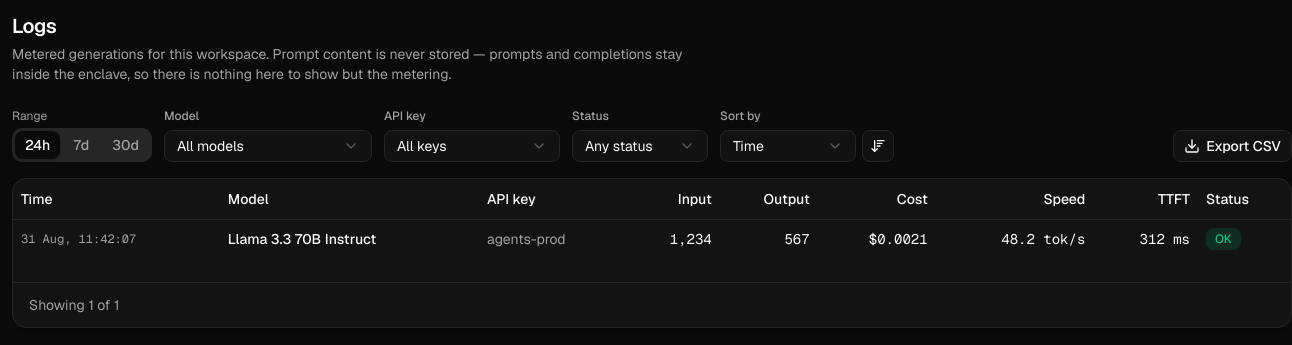
Test: LogsScreen › narrows the query to the chosen status
This screenshot has width=1292, height=345.
expect the text "Llama 3.3 70B Instruct" is shown: met, box top-left (220, 219), bottom-right (479, 258)
Click the dropdown labelled "status" at (640, 146), box top-left (572, 130), bottom-right (708, 162)
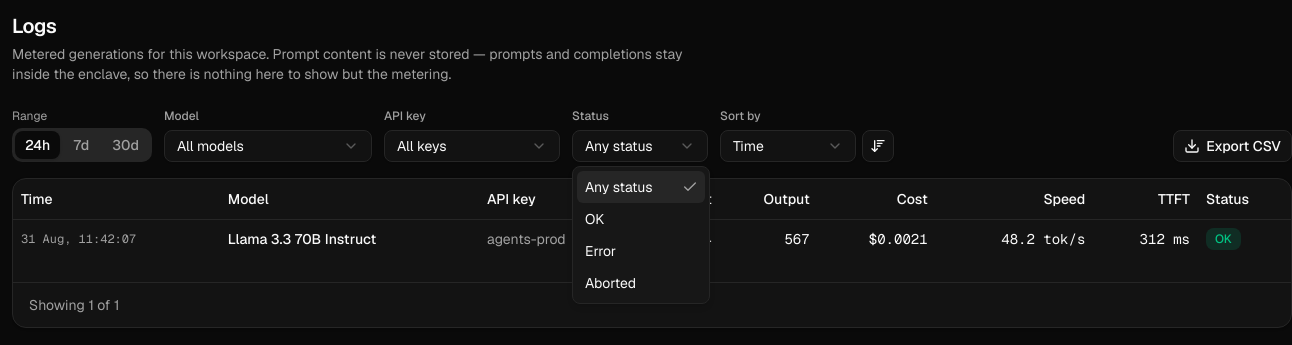
Click the option "Error" at (601, 251), box top-left (585, 242), bottom-right (616, 260)
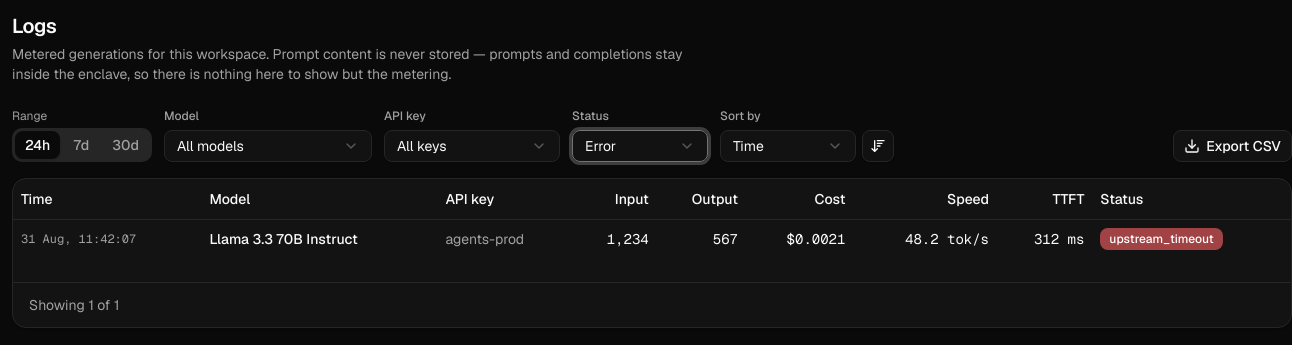
expect the text "upstream_timeout" is shown: met, box top-left (1100, 228), bottom-right (1223, 250)
